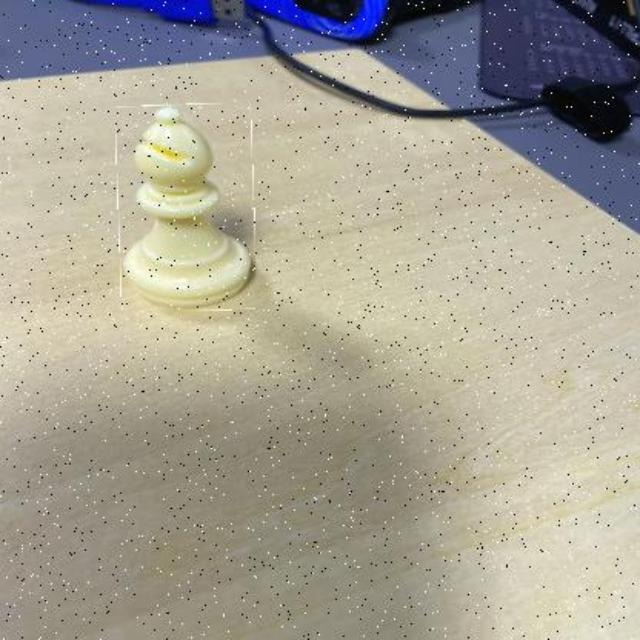white-bishop: (117, 104, 255, 311)
